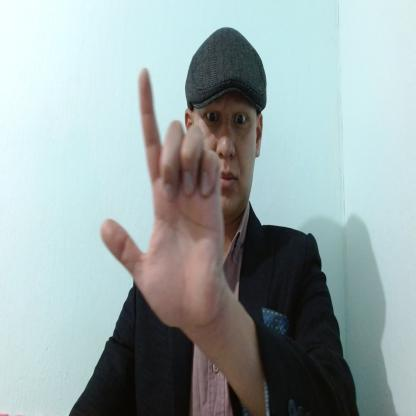L: (101, 68, 223, 330)
